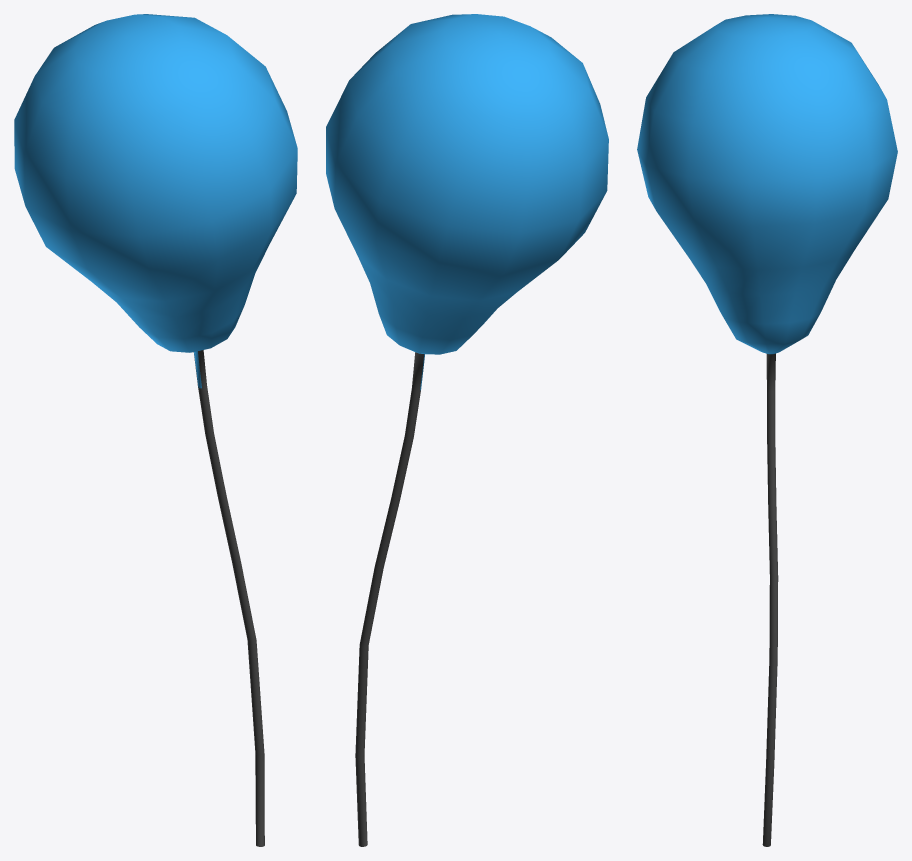
Rendered from balao2.fbx.
The picture shows the model from 3 angles, left to right: view 1: azimuth 30°, elevation 25°; view 2: azimuth 150°, elevation 25°; view 3: azimuth 270°, elevation 25°; orthographic projection. The views are drawn at different scales.
Parts seen in each view (by area): view 1: Balão.001; view 2: Balão.001; view 3: Balão.001.
Part boxes in pixels (bbox=[...]): Balão.001: bbox=[14, 14, 297, 846]; Balão.001: bbox=[326, 14, 608, 846]; Balão.001: bbox=[637, 14, 897, 846].
Size of the model in its own units: 34.33 by 112 by 34.5.
